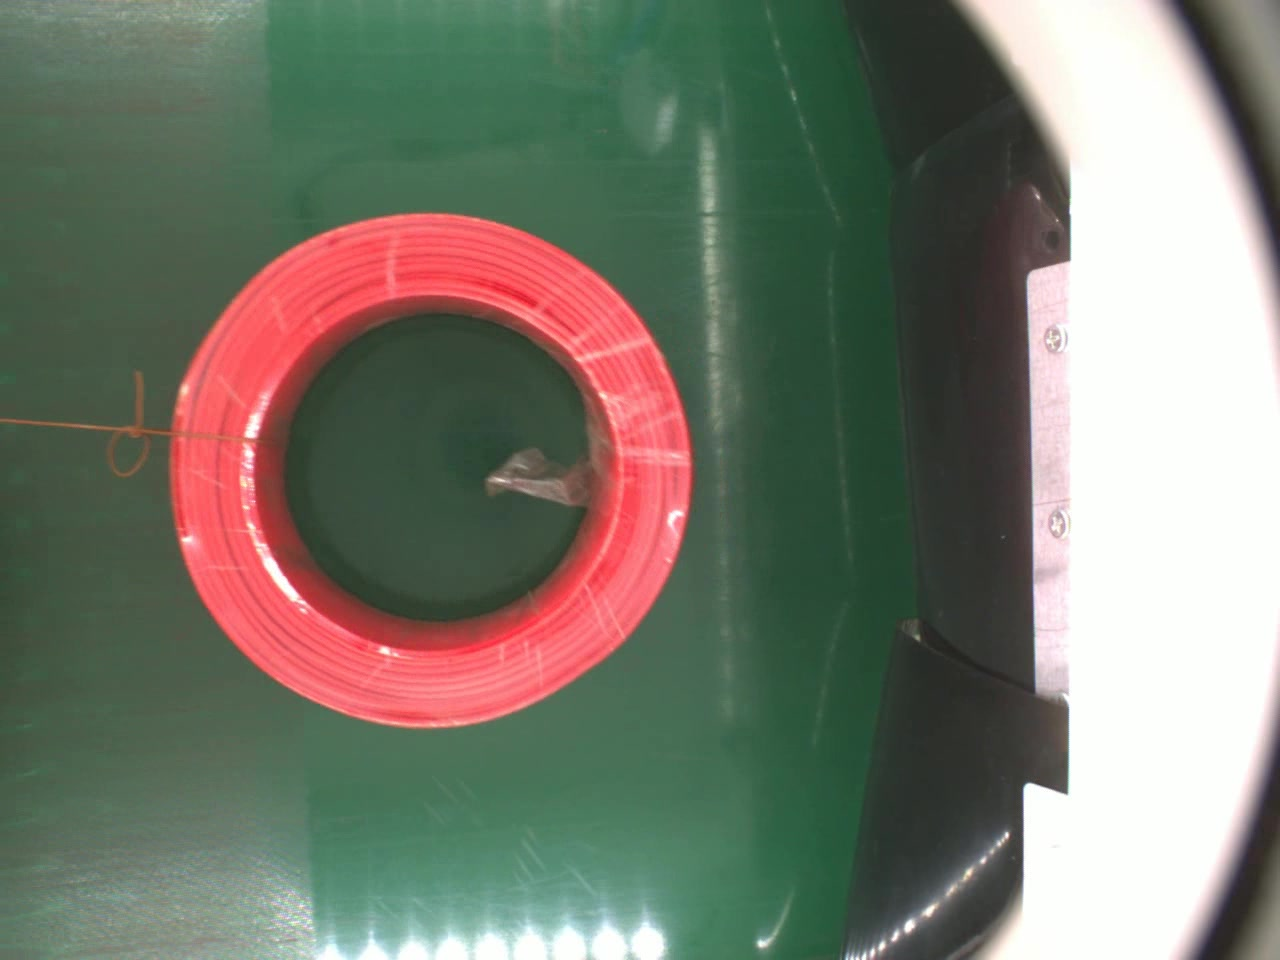red: (167, 209, 690, 731)
